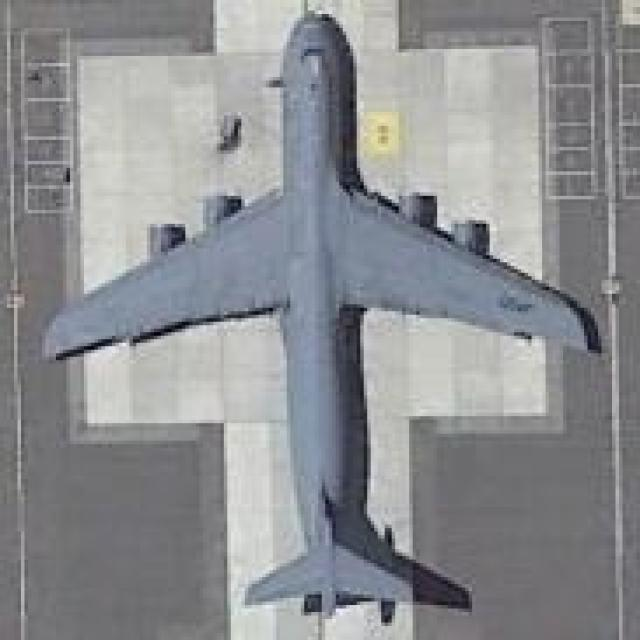C-5_TopDown: (39, 7, 602, 623)
